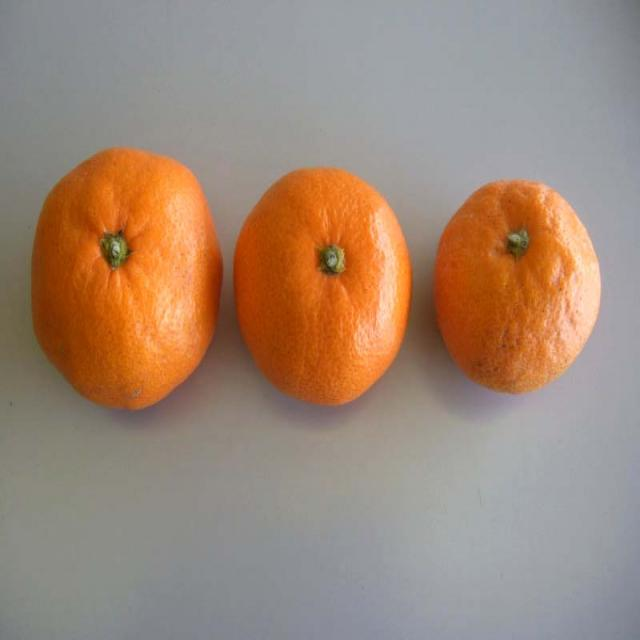Orange: (26, 147, 219, 413), (230, 167, 410, 410), (434, 180, 602, 392)
